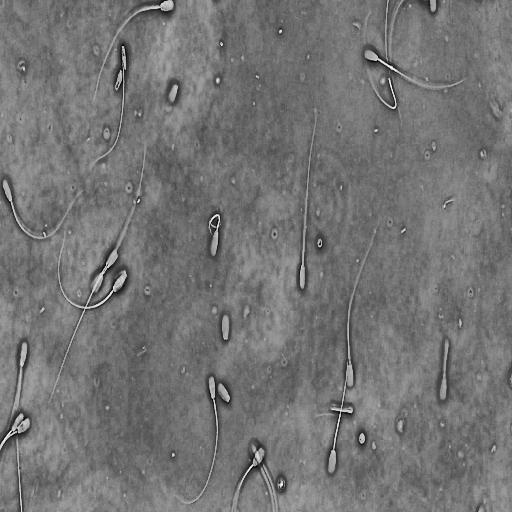coiled-tail: (8, 367, 22, 432), (209, 213, 221, 237), (113, 67, 123, 92), (442, 340, 448, 377), (115, 70, 122, 90), (212, 218, 219, 226), (216, 224, 219, 231), (219, 220, 220, 224)
dirt-particles: (275, 473, 287, 494), (356, 429, 366, 447)
distal-droplet: (390, 65, 394, 70)
folded-tail: (89, 46, 125, 168)
loose-head: (166, 77, 180, 108), (216, 379, 232, 405), (219, 309, 231, 343)
loose-tail: (361, 7, 398, 113), (384, 0, 406, 133), (14, 425, 24, 512)
normal: (48, 245, 121, 403), (89, 139, 148, 295), (90, 0, 176, 105), (344, 212, 384, 391), (56, 226, 129, 313), (176, 373, 220, 506), (86, 41, 128, 177), (1, 176, 86, 241), (360, 45, 472, 92), (297, 106, 319, 294), (327, 325, 350, 476), (231, 443, 268, 510), (5, 338, 29, 432), (437, 335, 450, 405), (206, 211, 223, 259)
